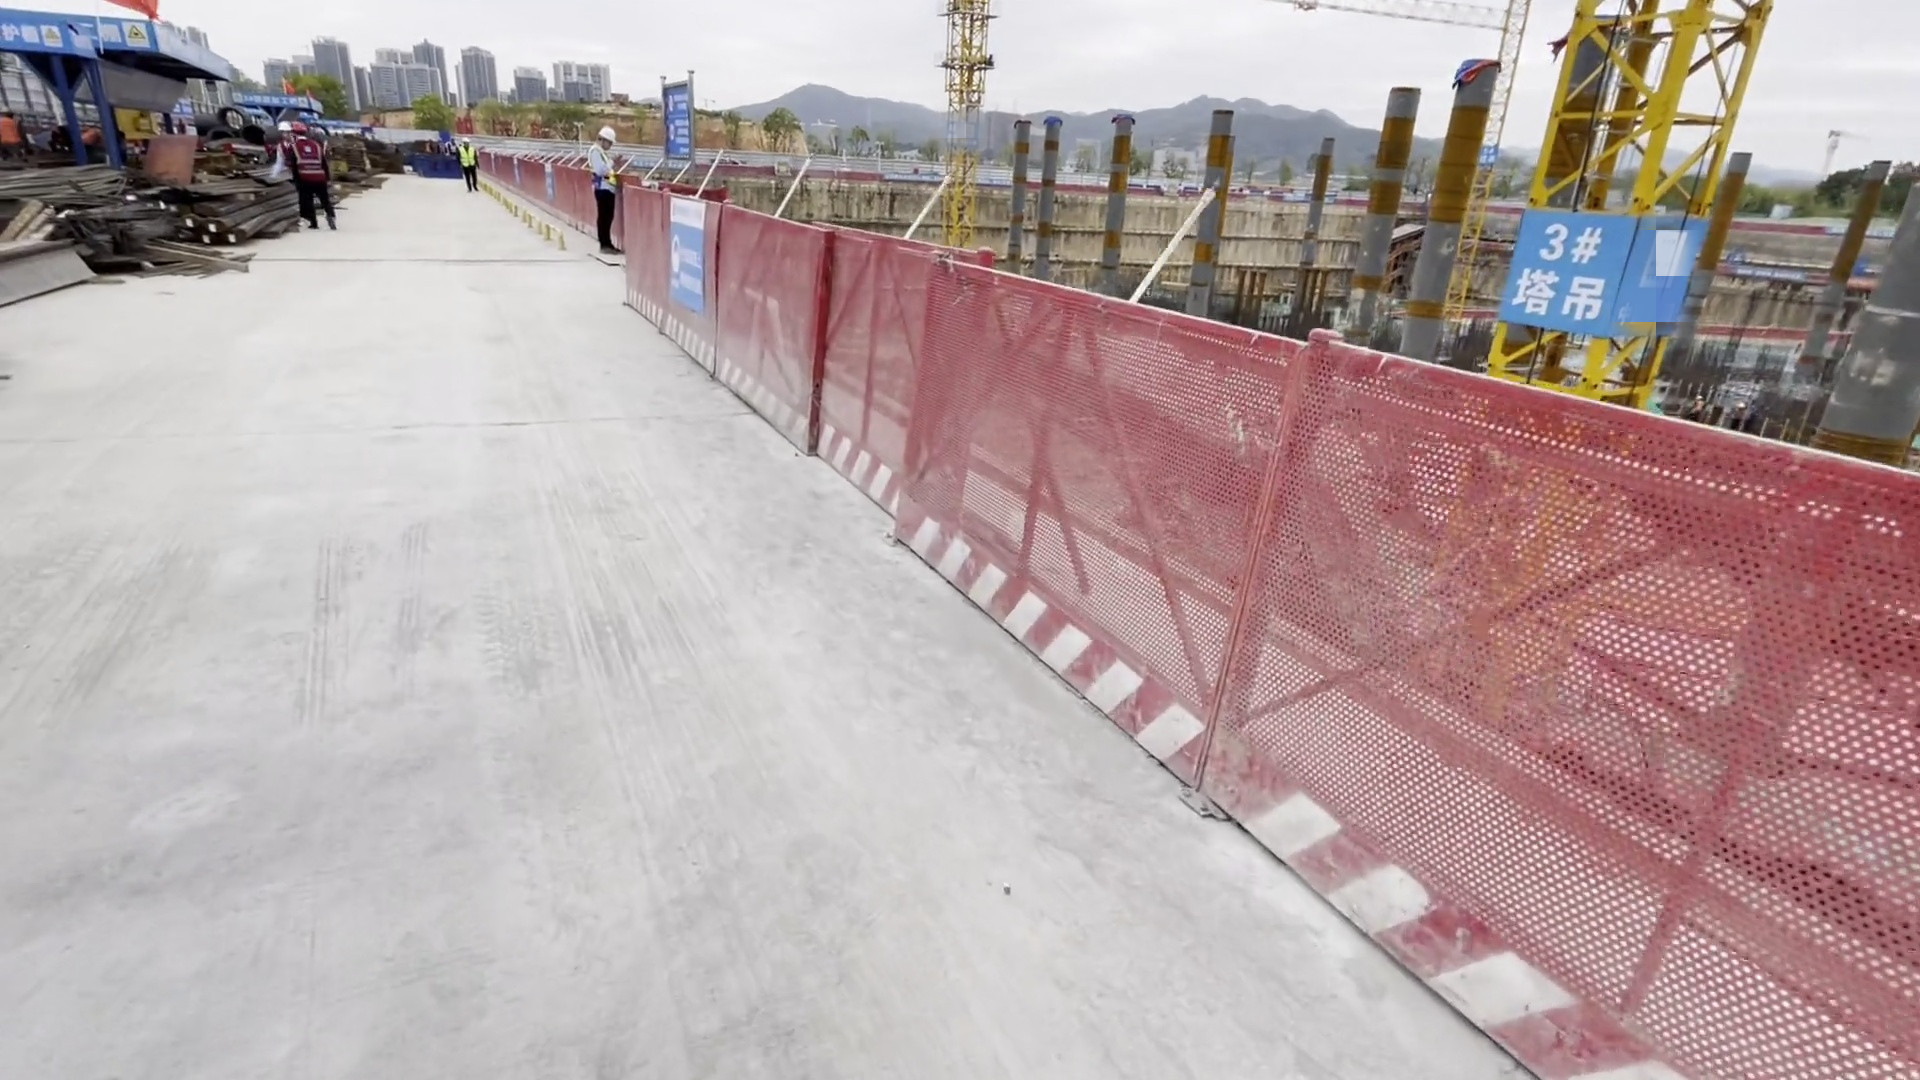ebox: (115, 107, 164, 136)
fence: (1246, 312, 1916, 1080), (710, 216, 1251, 798)
helmet: (598, 126, 616, 143), (277, 120, 294, 134), (289, 123, 305, 133)
person: (288, 126, 332, 238), (586, 129, 622, 260), (451, 138, 479, 198)
slogan: (663, 204, 714, 302)
vest: (287, 140, 320, 178), (588, 147, 614, 189), (455, 145, 475, 168)
